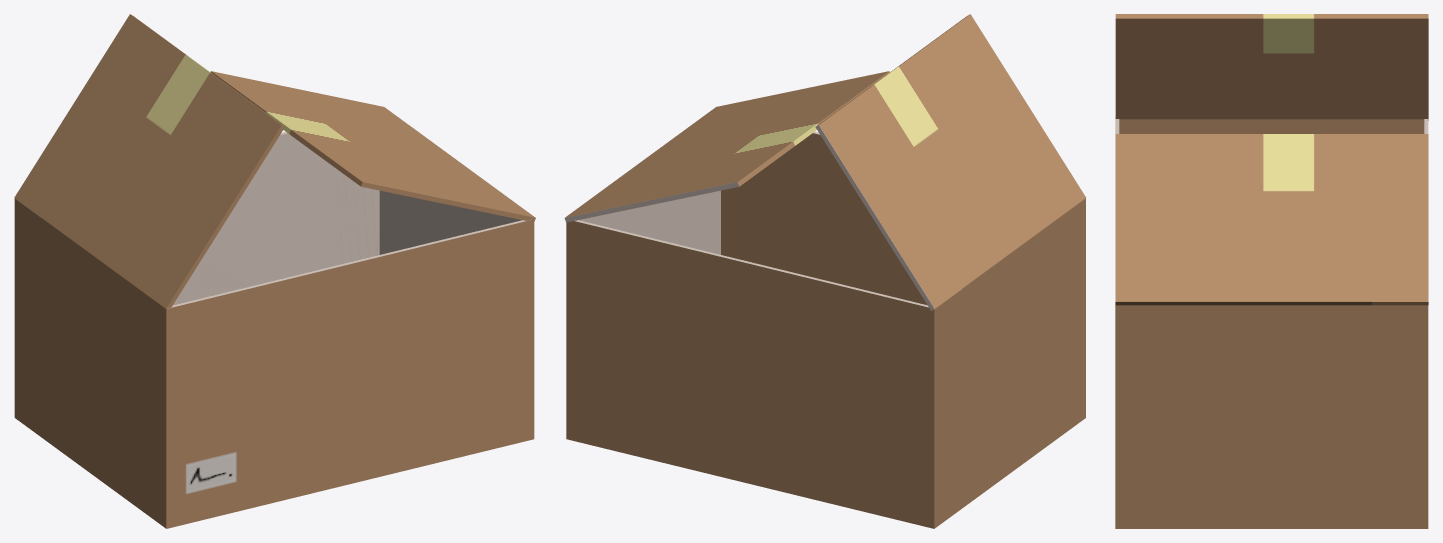
The model's file is caja.fbx.
The picture shows the model from 3 angles, left to right: view 1: azimuth 30°, elevation 25°; view 2: azimuth 150°, elevation 25°; view 3: azimuth 270°, elevation 25°; orthographic projection. The views are drawn at different scales.
Parts seen in each view (by area): view 1: cajaAbierta, solapas.001, solapas; view 2: cajaAbierta, solapas.001, solapas; view 3: cajaAbierta, solapas, solapas.001.
Part boxes in pixels (x1,y1,x2,y2): cajaAbierta: (14, 132, 534, 528); solapas.001: (14, 14, 284, 308); solapas: (210, 71, 535, 221); cajaAbierta: (566, 131, 1085, 528); solapas.001: (815, 14, 1085, 310); solapas: (564, 71, 889, 222); cajaAbierta: (1115, 117, 1428, 528); solapas: (1115, 134, 1428, 305); solapas.001: (1115, 14, 1428, 120).
Bounding box in the file's own units: 70.44 × 68.31 × 50.05.
